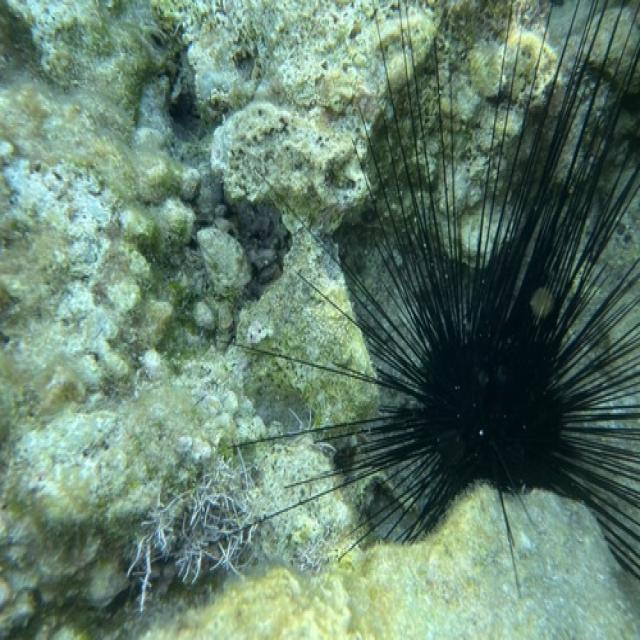Urchin: (220, 4, 640, 575)
